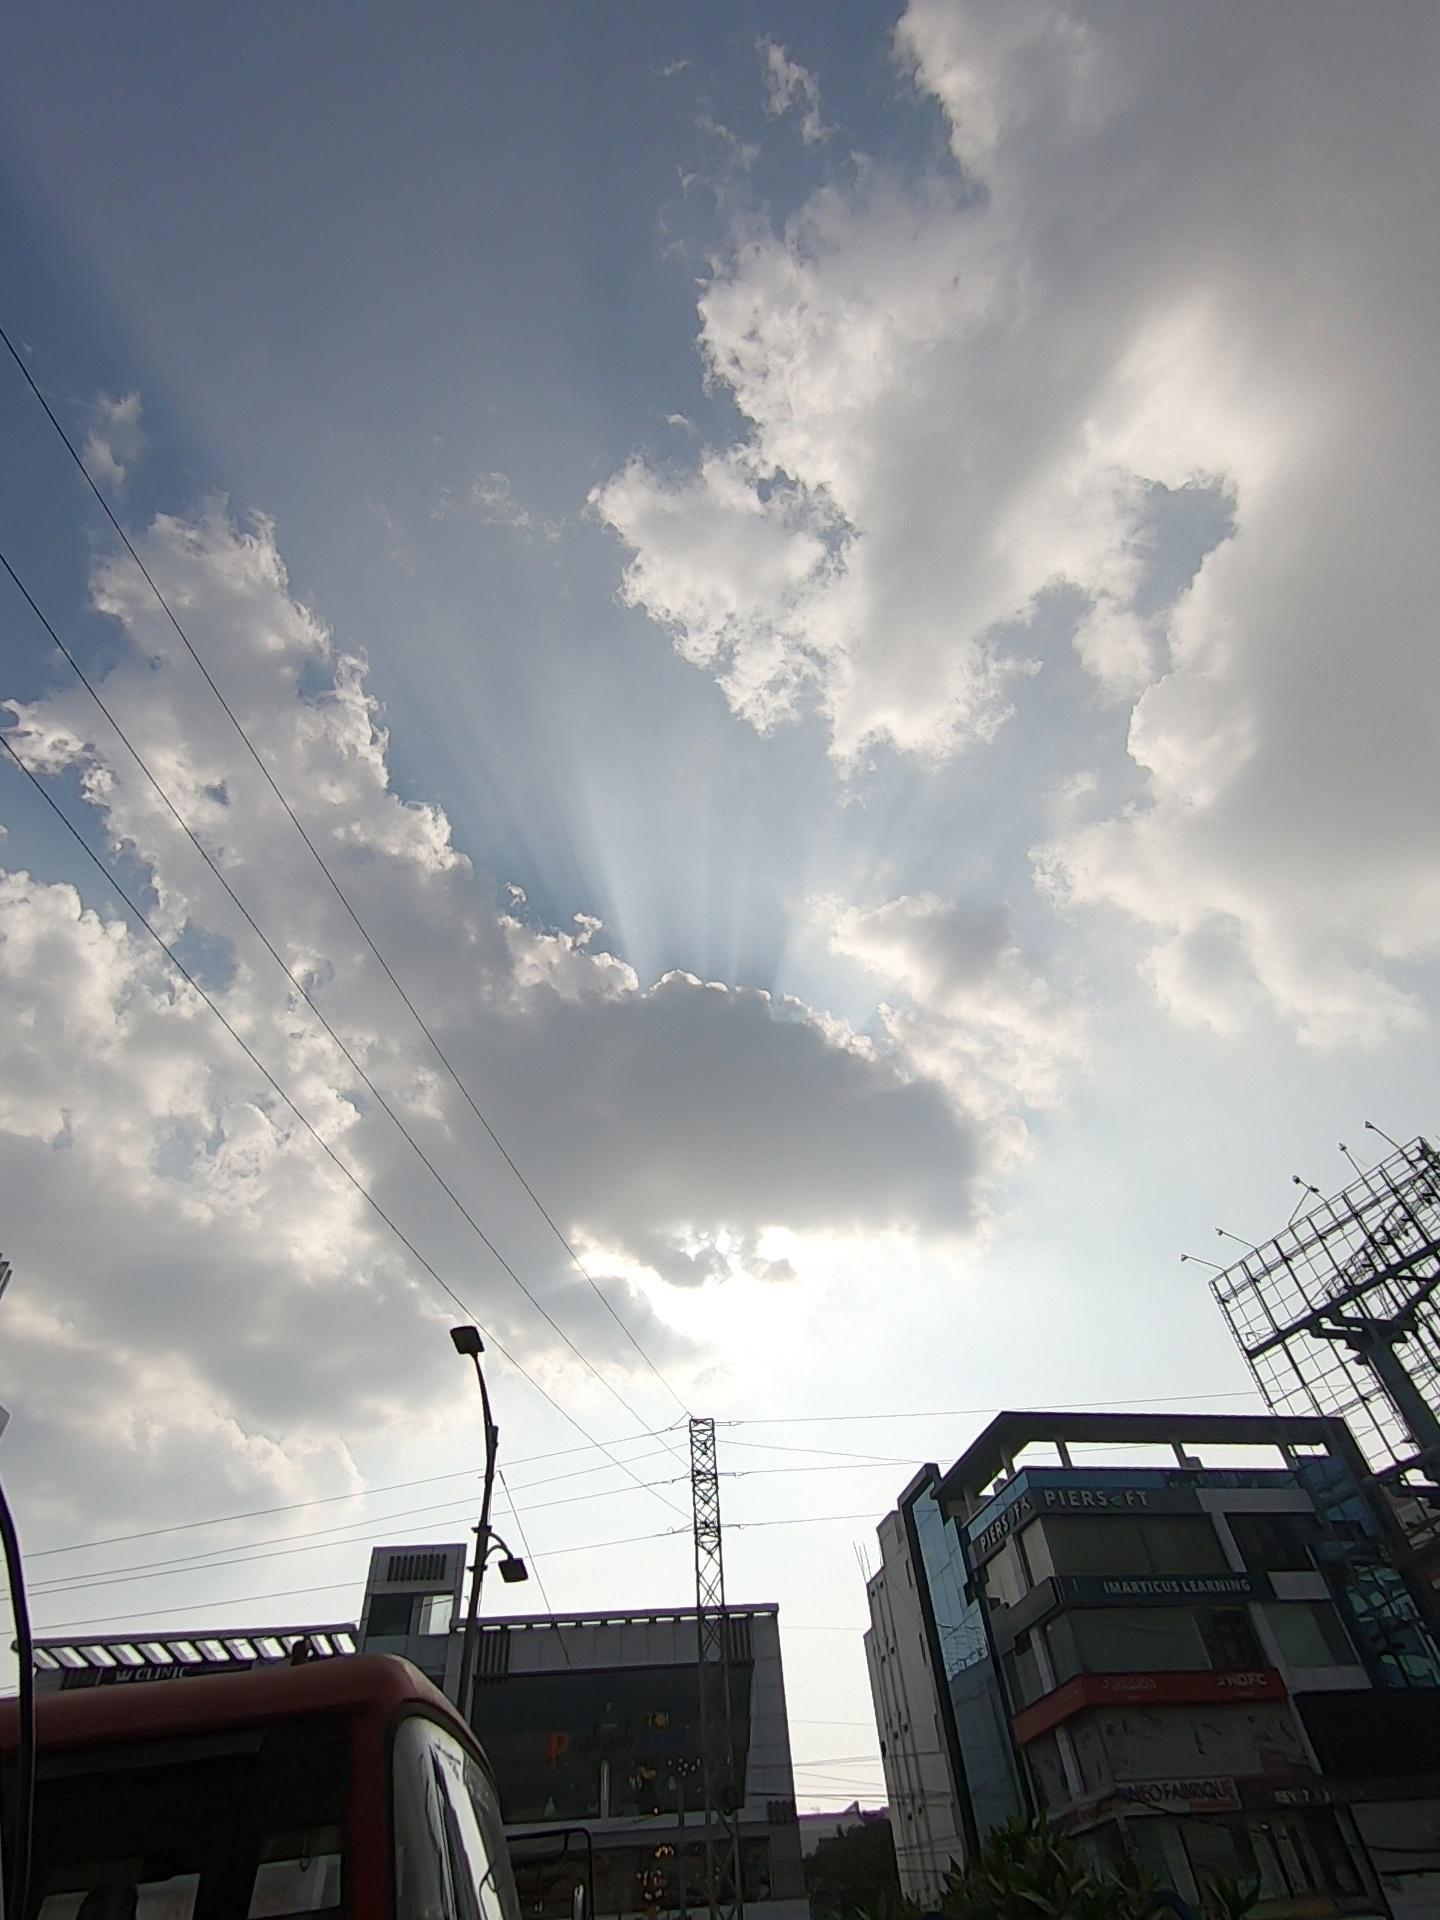off: (375, 1211, 632, 1628)
